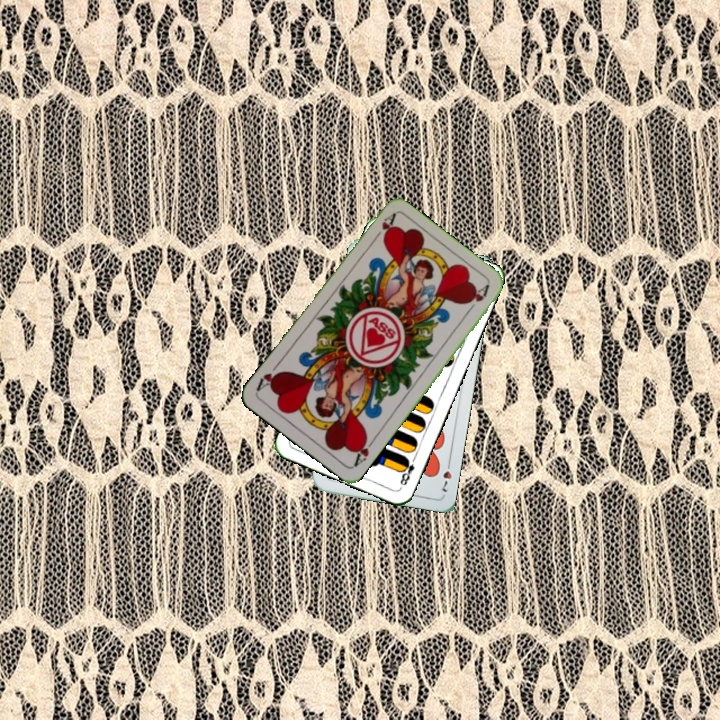E8: (396, 452, 419, 488)
H7: (438, 456, 454, 495)
HA: (349, 432, 378, 469), (368, 210, 398, 245)
